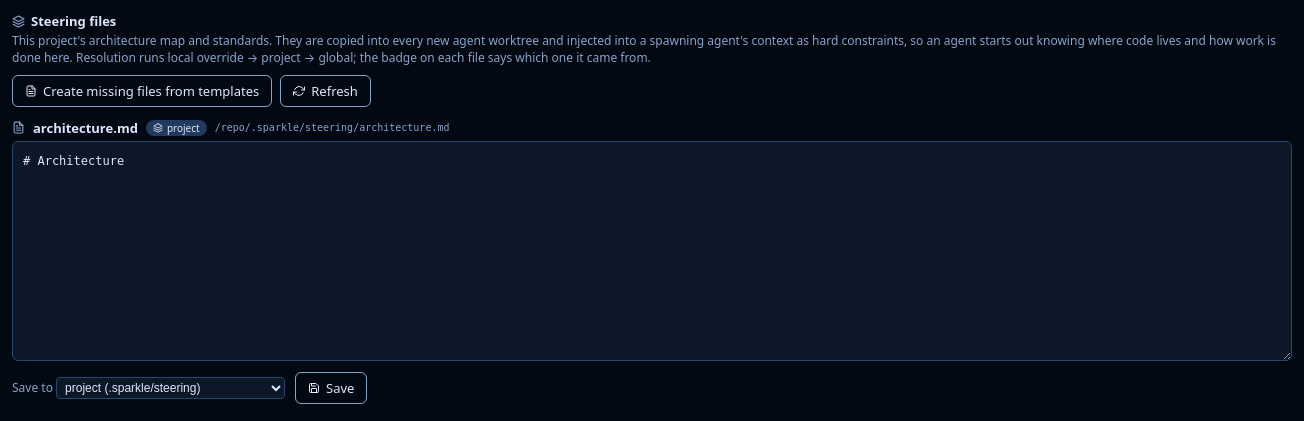
editing › reports a failed write and does not claim it saved
Click the button "Save".
click(331, 388)  # box [295, 372, 367, 404]
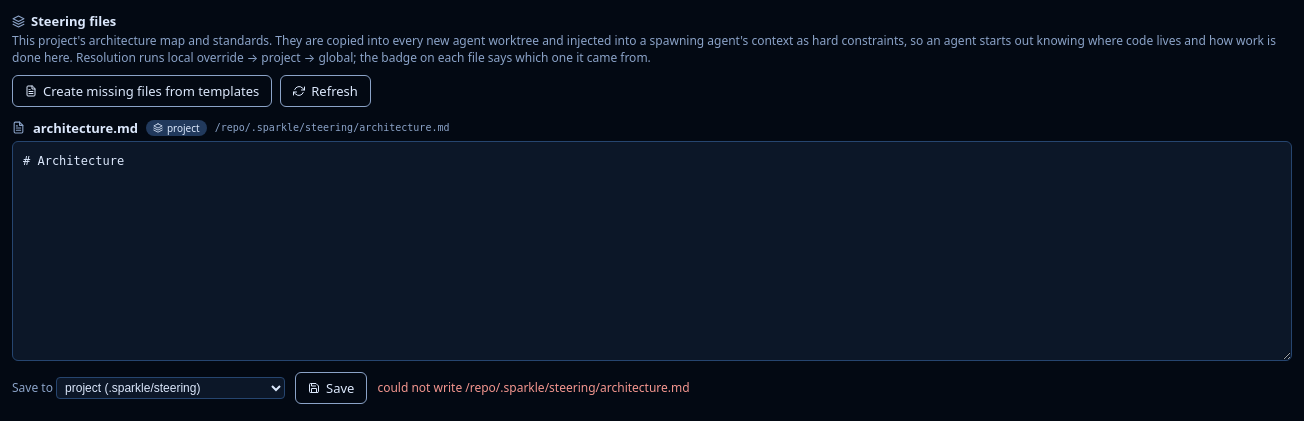
Check: the message shows "could not write", box [377, 379, 690, 396]
